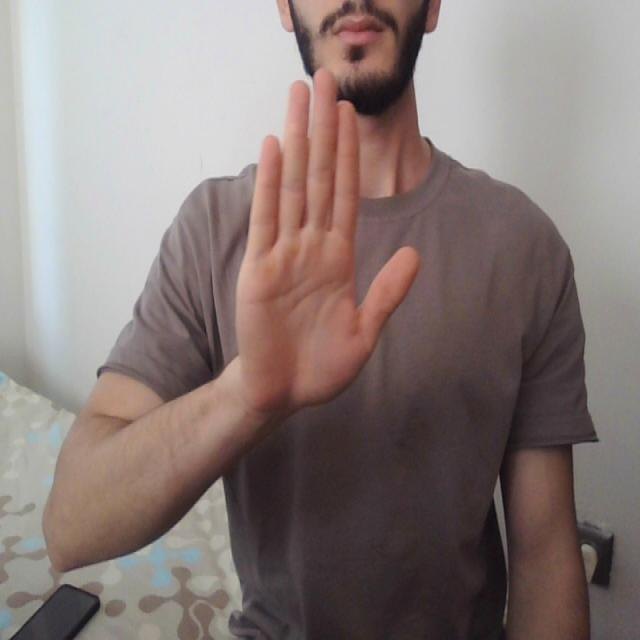Dur: (224, 61, 430, 417)
